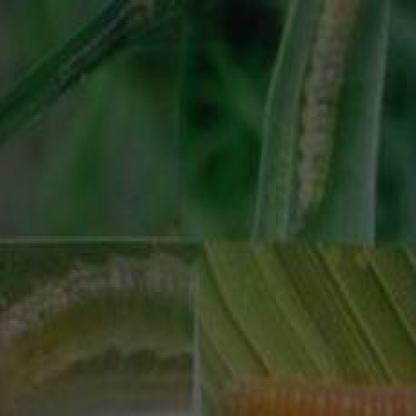leaf-folder: (0, 235, 188, 398), (276, 0, 376, 219), (34, 2, 170, 118), (221, 360, 416, 416)
